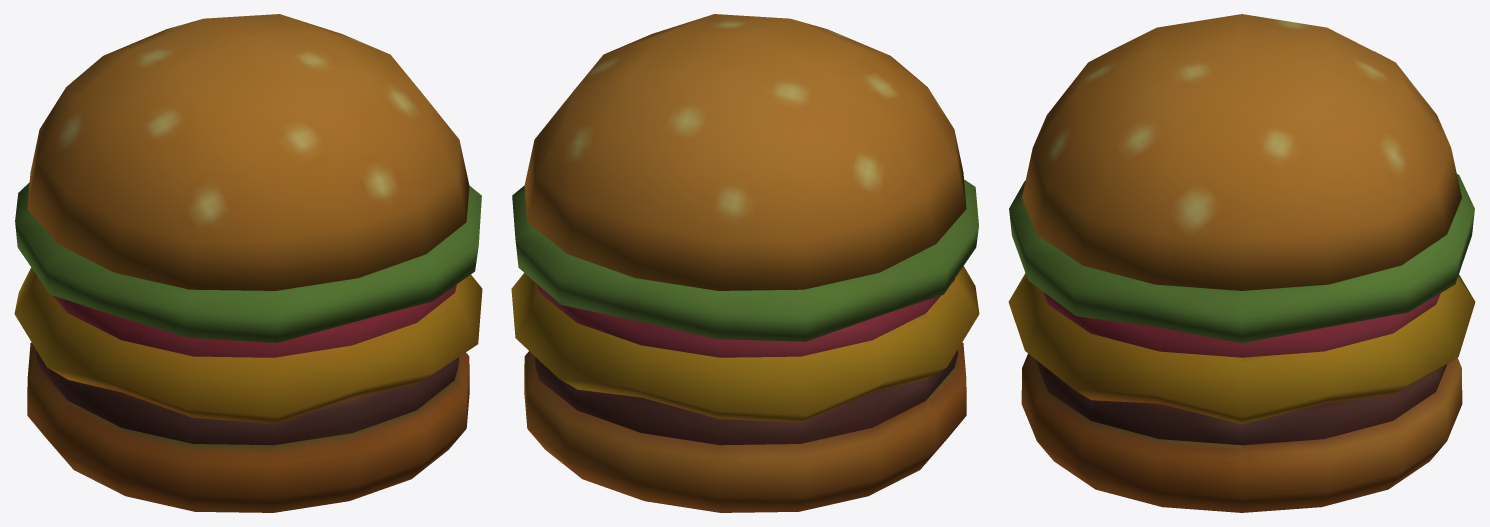
File: burger.glb
The picture shows the model from 3 angles, left to right: view 1: azimuth 30°, elevation 25°; view 2: azimuth 150°, elevation 25°; view 3: azimuth 270°, elevation 25°; orthographic projection.
Parts seen in each view (by area): view 1: geometry_0; view 2: geometry_0; view 3: geometry_0.
Part boxes in pixels (bbox=[...]): geometry_0: bbox=[14, 14, 482, 512]; geometry_0: bbox=[511, 14, 979, 512]; geometry_0: bbox=[1008, 14, 1475, 512].
Bounding box in the file's own units: 3.06 × 2.82 × 3.06.
Materials: 1 (1 with a texture image).
